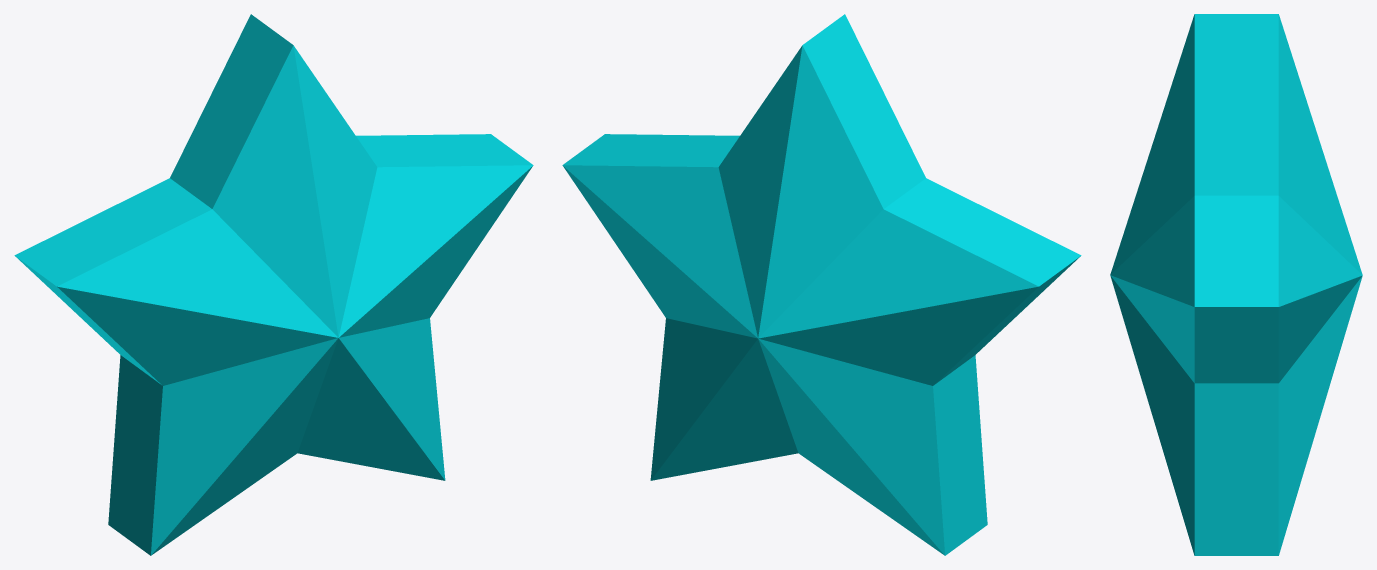
Rendered from estrella azul.glb.
The picture shows the model from 3 angles, left to right: view 1: azimuth 30°, elevation 25°; view 2: azimuth 150°, elevation 25°; view 3: azimuth 270°, elevation 25°; orthographic projection.
Parts seen in each view (by area): view 1: Cylinder; view 2: Cylinder; view 3: Cylinder.
Part boxes in pixels (box(x1,y1,x2,y2)): Cylinder: box(14, 14, 533, 555); Cylinder: box(562, 14, 1081, 555); Cylinder: box(1110, 14, 1362, 555).
Bounding box in the file's own units: 1.9 × 1.81 × 0.881.
